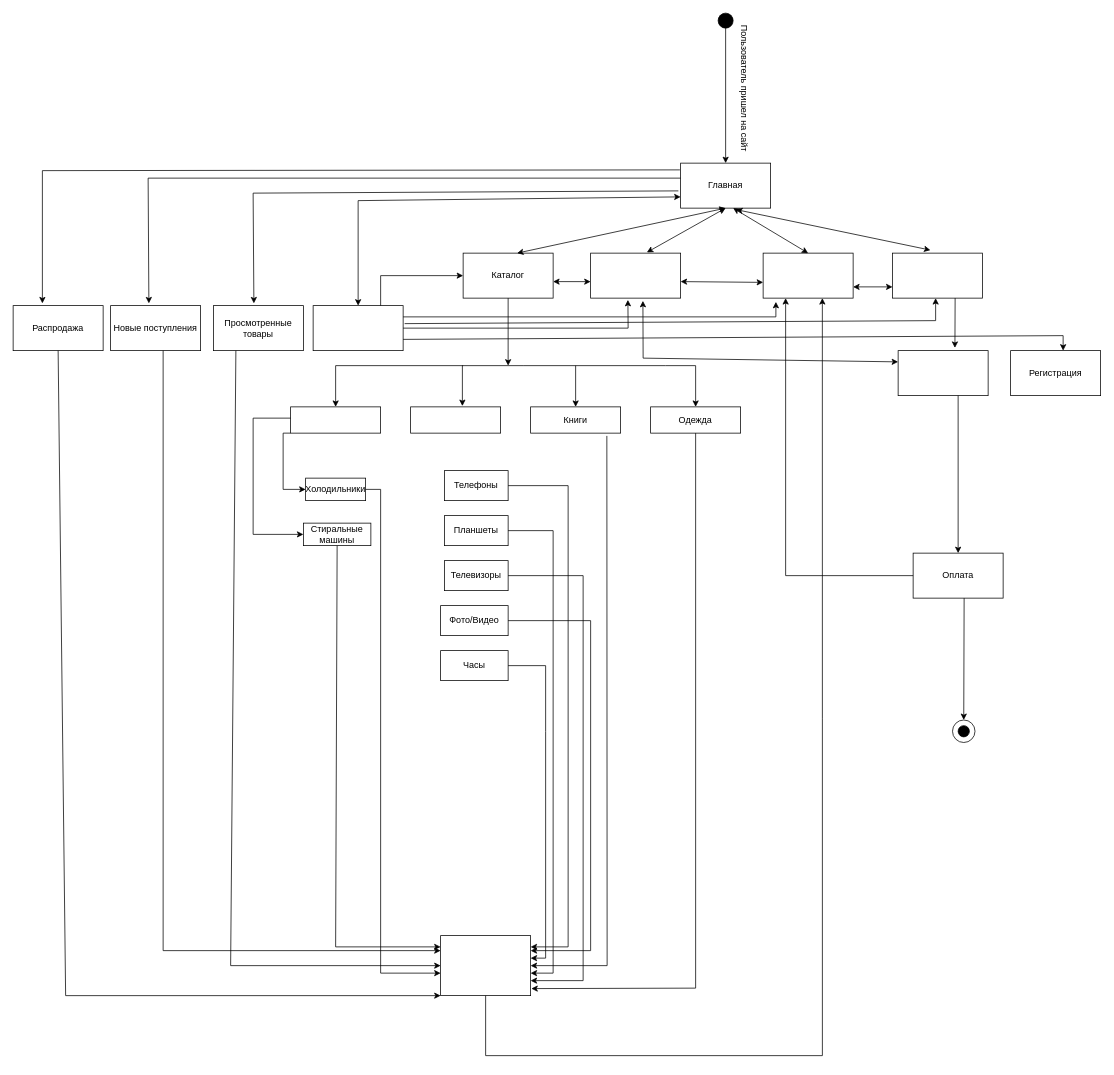
This 1114x1075 diagram has some shape labels left out. The shapes that lost their labels are listed below. From the top down, each one's centre as x and y in pixels, then its label:
pixel 635 275: Мой аккаунт
pixel 807 275: Корзина
pixel 937 275: Оформление заказа
pixel 357 328: Подвал
pixel 942 373: Авторизация
pixel 335 419: Бытовая техника
pixel 455 419: Электроника
pixel 485 965: Карточка товара
